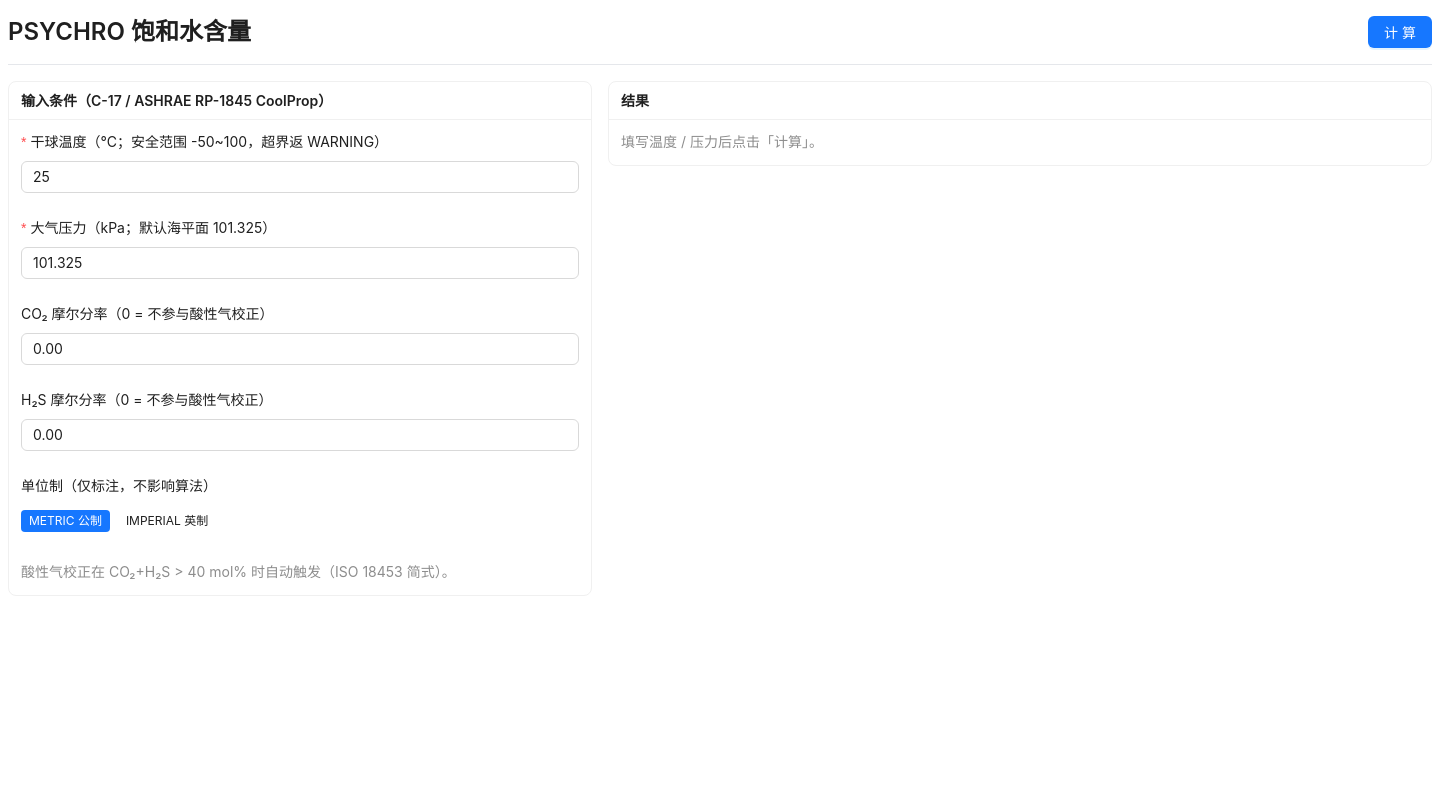
Test: SaturationWaterContentPage — 计算路径 › PcsError envelope → 显示 message
Click the button with test id "saturation-w-calculate".
click(1400, 32)  # box [1368,16,1432,48]
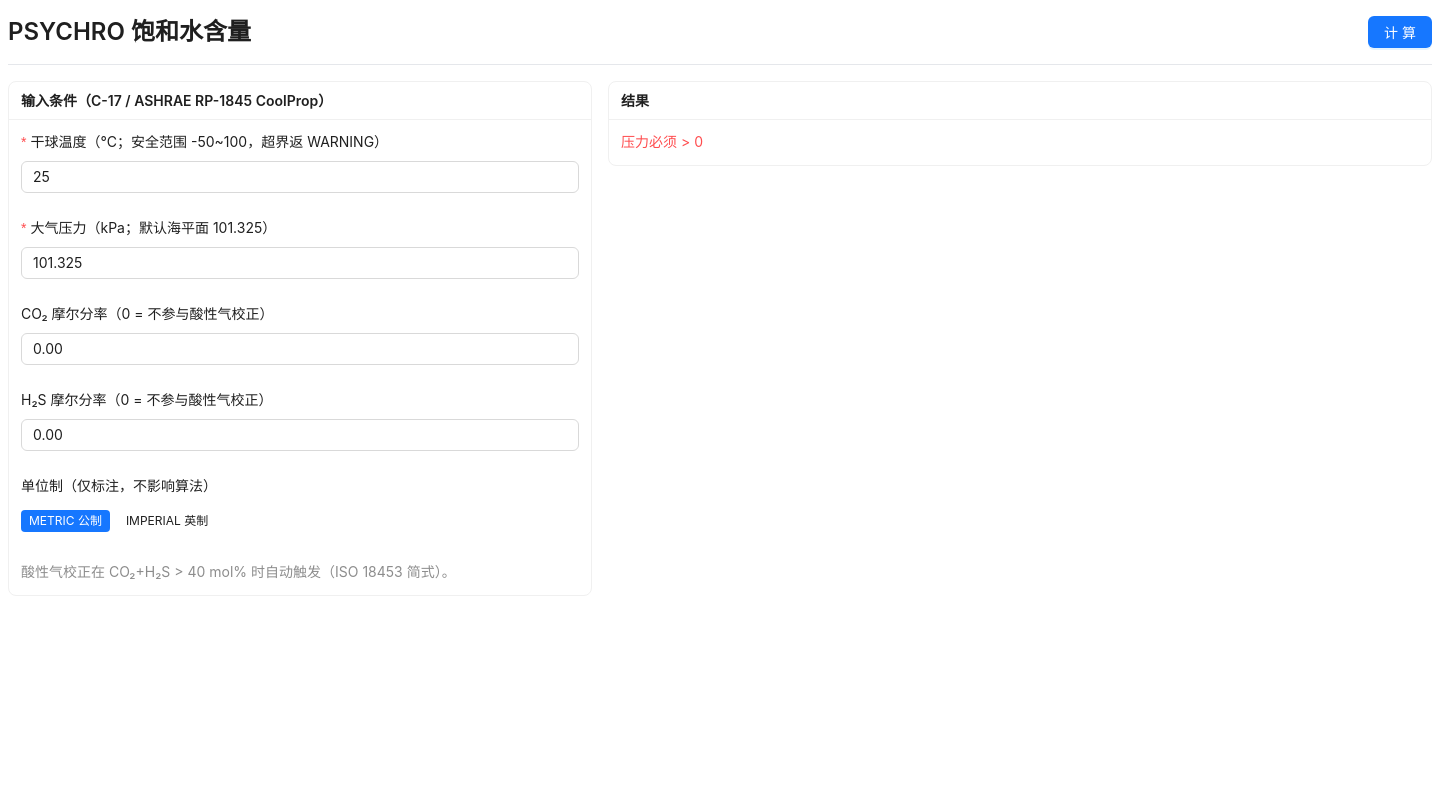
Check: the text with test id "saturation-w-error" reads "压力必须 > 0", box [621,133,703,150]
